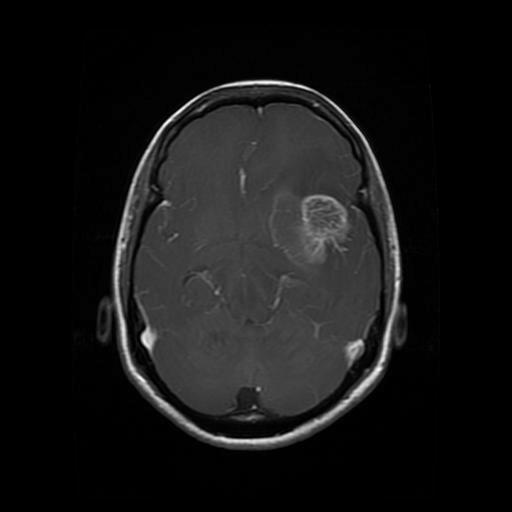Tumour-Glioma: (292, 188, 367, 272)
